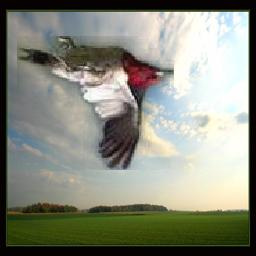Woodpecker: (18, 36, 175, 170)
